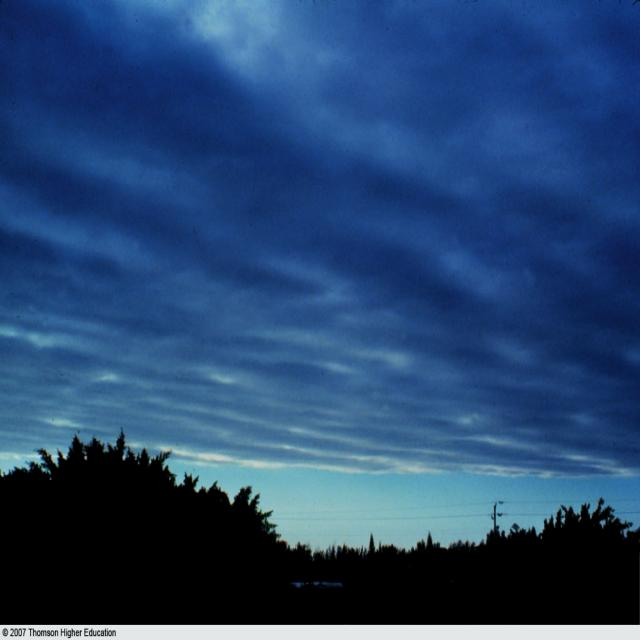nimbostratus: (7, 6, 640, 418)
